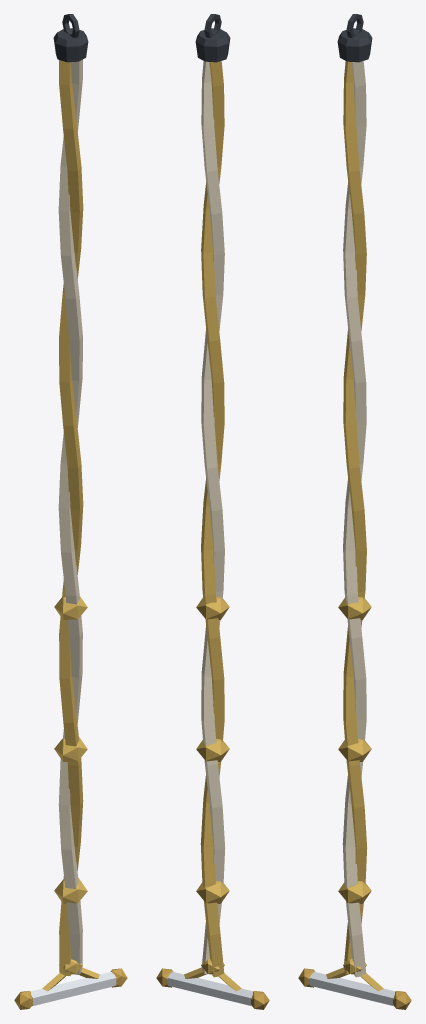
Rendered from RopeSwing.obj.
The picture shows the model from 3 angles, left to right: view 1: azimuth 30°, elevation 25°; view 2: azimuth 150°, elevation 25°; view 3: azimuth 330°, elevation 25°; orthographic projection.
Bounding box in the file's own units: 1.03 × 9.01 × 0.3.
